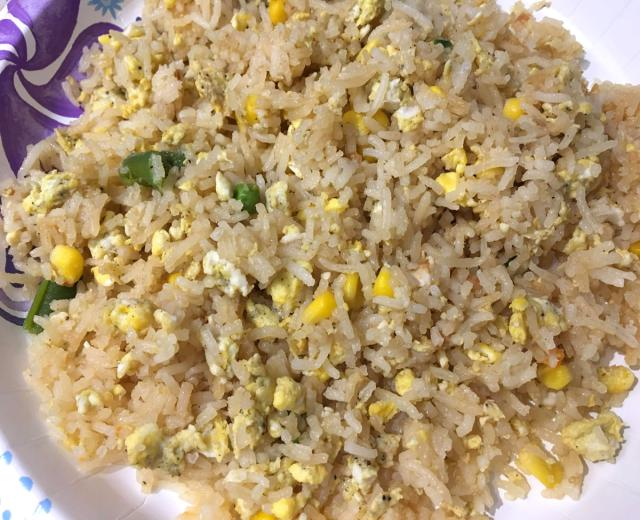fried rice: (0, 1, 628, 509), (5, 1, 154, 309)
